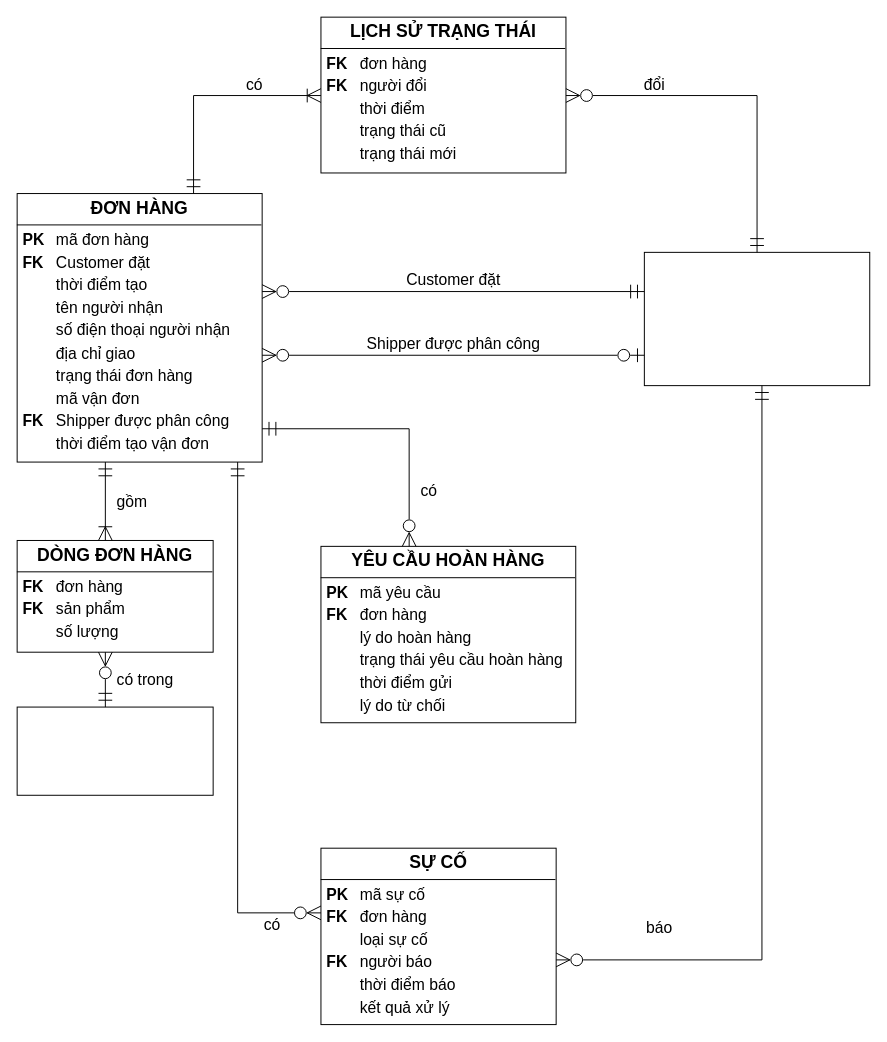
This 887x1042 diagram has some shape labels left out. The box of each missing label's shape, as (x1, y1, x2, y2) in pixels:
NGƯỜI DÙNG PK mã người dùng họ tên vai trò thông tin đăng nhập: (643, 251, 870, 386)
SẢN PHẨM PK mã sản phẩm tên sản phẩm: (16, 706, 213, 795)
